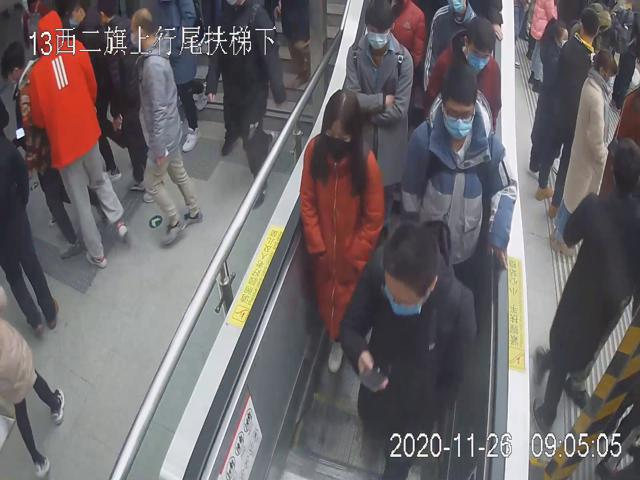person: (339, 210, 477, 478), (398, 60, 518, 276), (28, 11, 129, 267), (301, 86, 386, 375), (128, 5, 206, 247), (345, 0, 415, 205), (551, 42, 614, 258), (422, 18, 508, 133)
